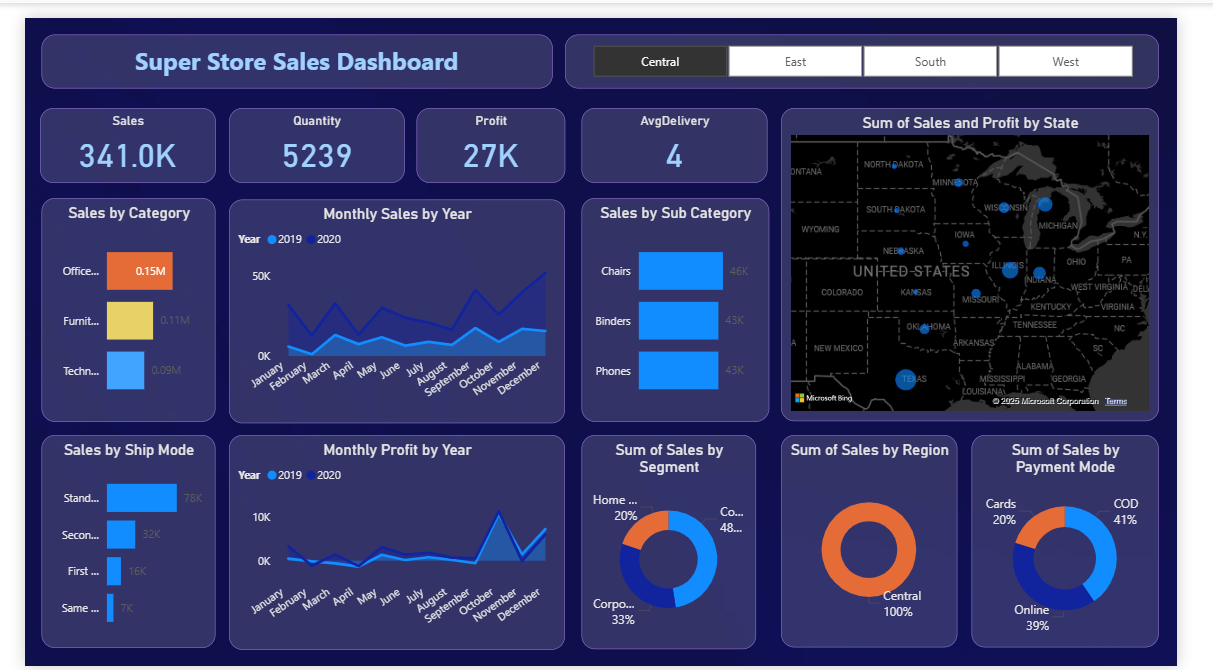

The page's visual inventory and layout, read from the dashboard file:
{"tool":"powerbi","page":{"name":"Page 1","canvas":[1280,720],"ordinal":0},"visuals":[{"type":"clusteredBarChart","title":"Sales by Category","fields":{"Category":["SuperStore_Sales_Dataset.Category"],"Y":["Sum(SuperStore_Sales_Dataset.Sales)"]},"box":[18.3,200,193.3,248.3],"z":0},{"type":"clusteredBarChart","title":"Sales by Sub Category","fields":{"Category":["SuperStore_Sales_Dataset.Sub-Category"],"Y":["Sum(SuperStore_Sales_Dataset.Sales)"]},"box":[618.3,200,208.3,248.3],"z":1000},{"type":"clusteredBarChart","title":"Sales by Ship Mode","fields":{"Category":["SuperStore_Sales_Dataset.Ship Mode"],"Y":["Sum(SuperStore_Sales_Dataset.Sales)"]},"box":[18.3,463.3,193.3,236.7],"z":2000},{"type":"stackedAreaChart","title":"Monthly Sales by Year","fields":{"Y":["Sum(SuperStore_Sales_Dataset.Sales)"],"Category":["SuperStore_Sales_Dataset.Order Date.Variation.Date Hierarchy.Month","SuperStore_Sales_Dataset.Order Date.Variation.Date Hierarchy.Day"],"Series":["SuperStore_Sales_Dataset.Order Date.Variation.Date Hierarchy.Year"]},"box":[226.7,201.7,373.3,248.3],"z":3000},{"type":"stackedAreaChart","title":"Monthly Profit by Year","fields":{"Category":["SuperStore_Sales_Dataset.Order Date.Variation.Date Hierarchy.Month","SuperStore_Sales_Dataset.Order Date.Variation.Date Hierarchy.Day"],"Series":["SuperStore_Sales_Dataset.Order Date.Variation.Date Hierarchy.Year"],"Y":["Sum(SuperStore_Sales_Dataset.Profit)"]},"box":[226.7,463.3,373.3,238.3],"z":4000},{"type":"map","title":"Sum of Sales and Profit by State","fields":{"Category":["SuperStore_Sales_Dataset.State"],"Size":["Sum(SuperStore_Sales_Dataset.Sales)"]},"box":[840,100,420,348],"z":4001},{"type":"donutChart","fields":{"Category":["SuperStore_Sales_Dataset.Segment"],"Y":["Sum(SuperStore_Sales_Dataset.Sales)"]},"box":[618,464,194,238],"z":4002},{"type":"donutChart","fields":{"Category":["SuperStore_Sales_Dataset.Region"],"Y":["Sum(SuperStore_Sales_Dataset.Sales)"]},"box":[840,464,196,236],"z":4003},{"type":"donutChart","fields":{"Category":["SuperStore_Sales_Dataset.Payment Mode"],"Y":["Sum(SuperStore_Sales_Dataset.Sales)"]},"box":[1052,464,208,236],"z":4004},{"type":"slicer","fields":{"Values":["SuperStore_Sales_Dataset.Region"]},"box":[600,18,660,60],"z":4005},{"type":"textbox","box":[18,18,568,60],"z":4006},{"type":"card","title":"Sales","fields":{"Values":["Sum(SuperStore_Sales_Dataset.Sales)"]},"box":[16.7,100,195,83.3],"z":4007},{"type":"card","title":"Profit","fields":{"Values":["Sum(SuperStore_Sales_Dataset.Profit)"]},"box":[435,100,165,83.3],"z":4008},{"type":"card","title":"Quantity","fields":{"Values":["Sum(SuperStore_Sales_Dataset.Quantity)"]},"box":[226.7,100,195,83.3],"z":4009},{"type":"card","title":"AvgDelivery","fields":{"Values":["Avg(SuperStore_Sales_Dataset.AvgDelivery)"]},"box":[618.3,100,206.7,83.3],"z":4010}]}

Visuals, with their boxes in screenshot pixels (x1, y1, x2, y2), scaled from the page's 1280x720 canvas onto the 1213x670 screenshot:
"Sales by Category" clusteredBarChart: BBox(17, 186, 201, 417)
"Sales by Sub Category" clusteredBarChart: BBox(586, 186, 783, 417)
"Sales by Ship Mode" clusteredBarChart: BBox(17, 431, 201, 651)
"Monthly Sales by Year" stackedAreaChart: BBox(215, 188, 569, 419)
"Monthly Profit by Year" stackedAreaChart: BBox(215, 431, 569, 653)
"Sum of Sales and Profit by State" map: BBox(796, 93, 1194, 417)
donutChart - SuperStore_Sales_Dataset.Segment x Sum(SuperStore_Sales_Dataset.Sales): BBox(586, 432, 769, 653)
donutChart - SuperStore_Sales_Dataset.Region x Sum(SuperStore_Sales_Dataset.Sales): BBox(796, 432, 982, 651)
donutChart - SuperStore_Sales_Dataset.Payment Mode x Sum(SuperStore_Sales_Dataset.Sales): BBox(997, 432, 1194, 651)
slicer - SuperStore_Sales_Dataset.Region: BBox(569, 17, 1194, 73)
textbox: BBox(17, 17, 555, 73)
"Sales" card: BBox(16, 93, 201, 171)
"Profit" card: BBox(412, 93, 569, 171)
"Quantity" card: BBox(215, 93, 400, 171)
"AvgDelivery" card: BBox(586, 93, 782, 171)
